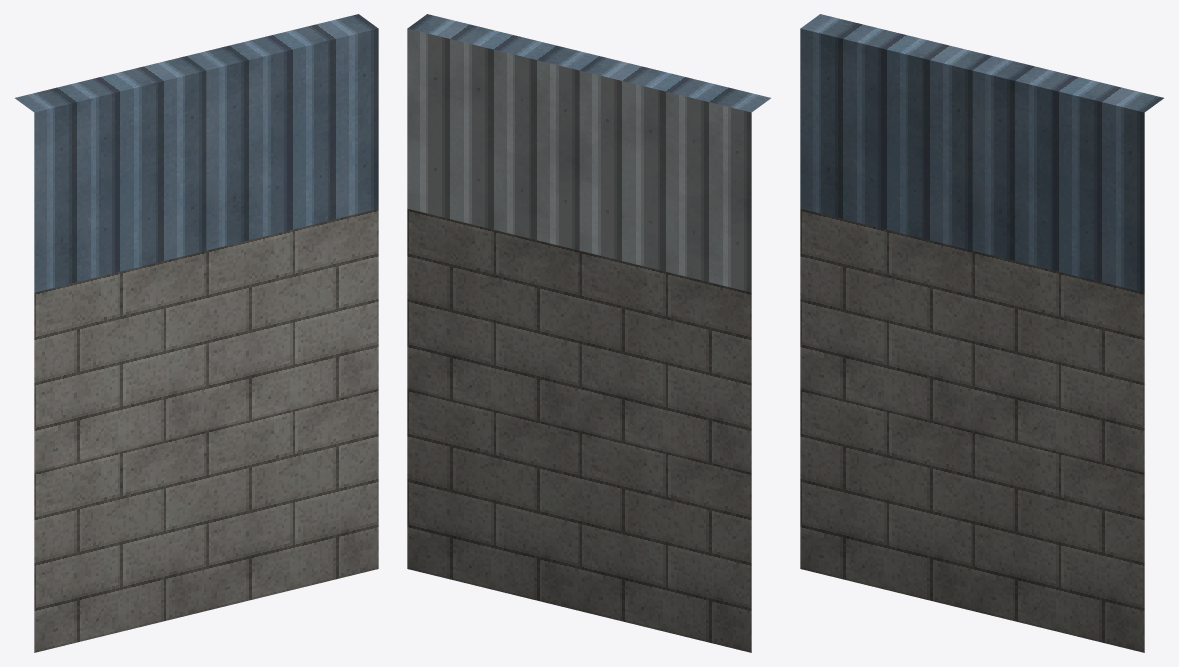
The model's file is wall_factory.glb.
3 views of the same model, side by side, from view 1: azimuth 30°, elevation 25°; view 2: azimuth 150°, elevation 25°; view 3: azimuth 330°, elevation 25° (orthographic).
Visible parts, largest first — view 1: wall_factory; view 2: wall_factory; view 3: wall_factory.
Part boxes in pixels (<box>): wall_factory: <box>15,14,378,652</box>; wall_factory: <box>407,14,770,652</box>; wall_factory: <box>800,14,1163,652</box>.
Bounding box in the file's own units: 2 × 3 × 0.2.
Materials: 1 (1 with a texture image).
